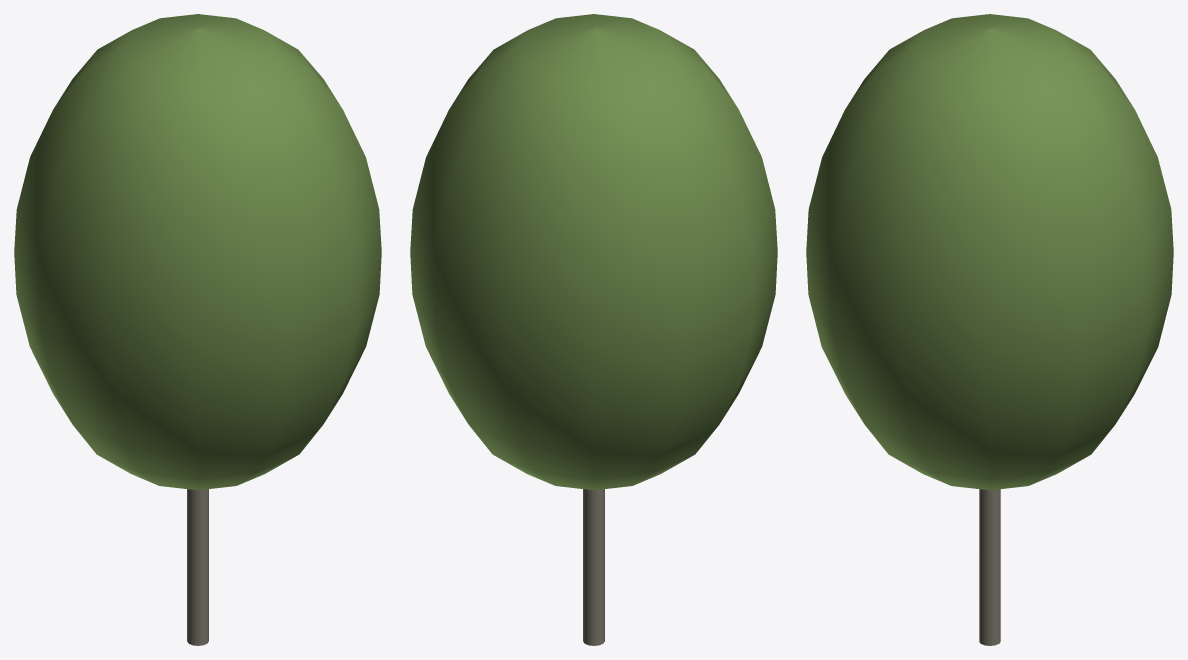
The model's file is Sea_Islands_Yucca_Analytical_0.obj.
The picture shows the model from 3 angles, left to right: view 1: azimuth 30°, elevation 25°; view 2: azimuth 150°, elevation 25°; view 3: azimuth 270°, elevation 25°; orthographic projection.
Parts seen in each view (by area): view 1: AnalyticalCrown, AnalyticalTrunk; view 2: AnalyticalCrown, AnalyticalTrunk; view 3: AnalyticalCrown, AnalyticalTrunk.
Boxes of the visible parts, box(x1,y1,x2,y2) form: AnalyticalCrown: box(14, 14, 381, 490); AnalyticalTrunk: box(187, 489, 208, 645); AnalyticalCrown: box(410, 14, 777, 490); AnalyticalTrunk: box(583, 489, 604, 645); AnalyticalCrown: box(806, 14, 1173, 490); AnalyticalTrunk: box(979, 489, 1000, 645).
Size of the model in its own units: 1.36 by 2.5 by 1.36.
